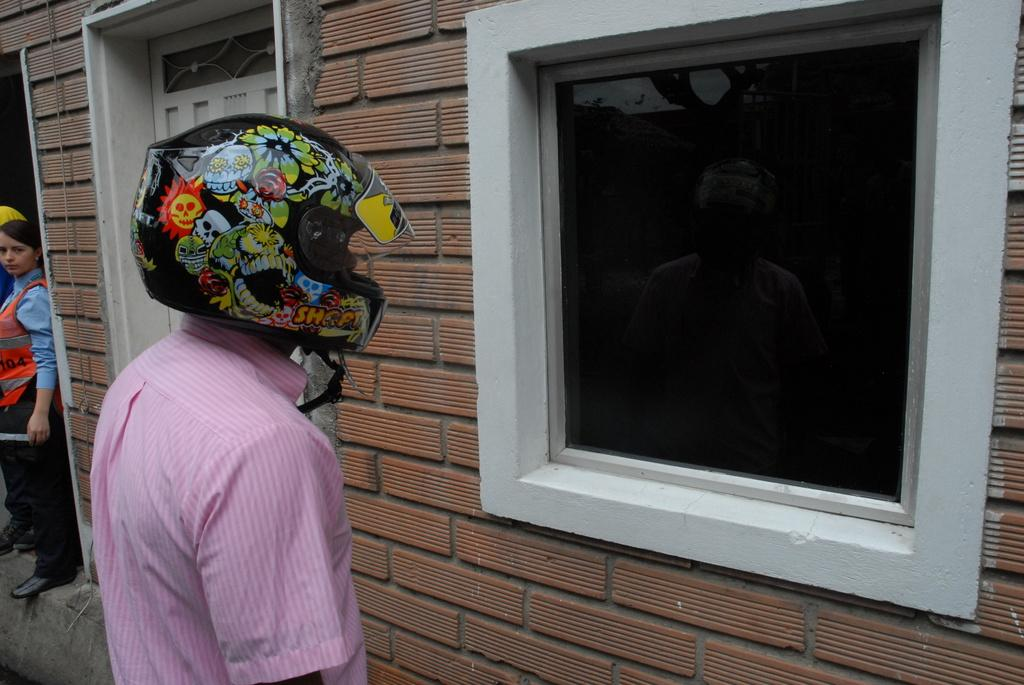helmet: (129, 111, 416, 354)
nohelmet: (0, 218, 43, 278)
